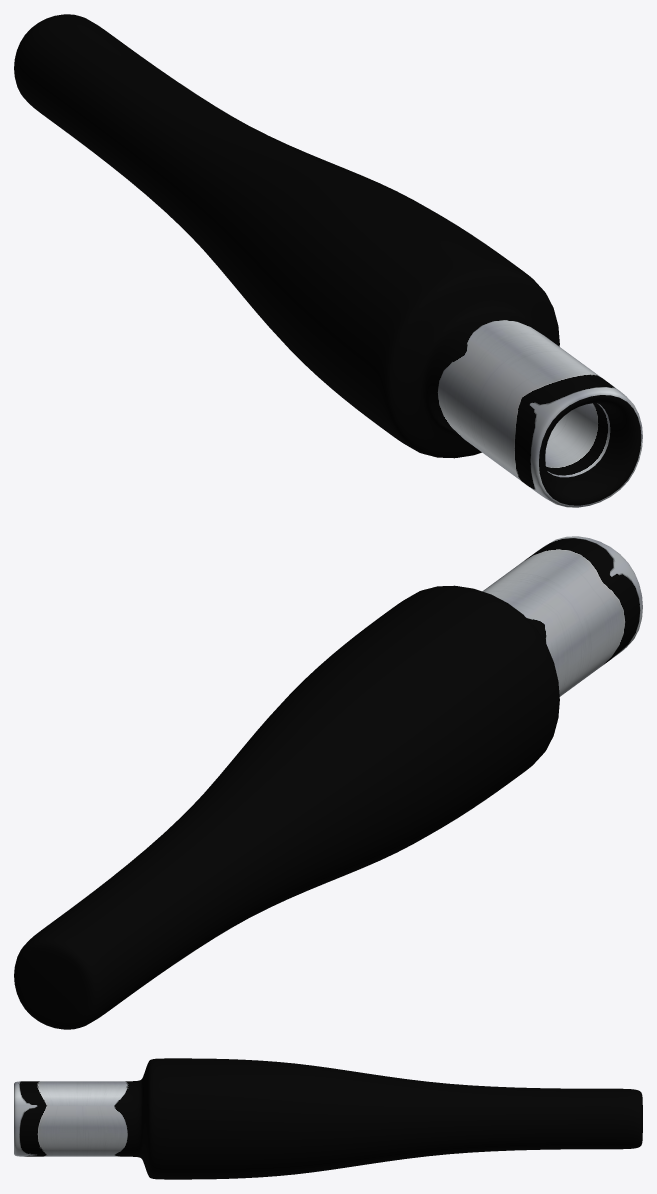
The model's file is cable.gltf.
3 renders of one model, top to bottom at view 1: azimuth 30°, elevation 25°; view 2: azimuth 150°, elevation 25°; view 3: azimuth 270°, elevation 25°, orthographic. The views are drawn at different scales.
Visible parts, largest first — view 1: Cube; view 2: Cube; view 3: Cube.
Part boxes in pixels (box(x1,y1,x2,y2)): Cube: box(14, 14, 642, 507); Cube: box(14, 536, 642, 1029); Cube: box(14, 1058, 642, 1179).
Size of the model in its own units: 9.17 by 9.17 by 48.22.
Materials: 1 (1 with a texture image).
